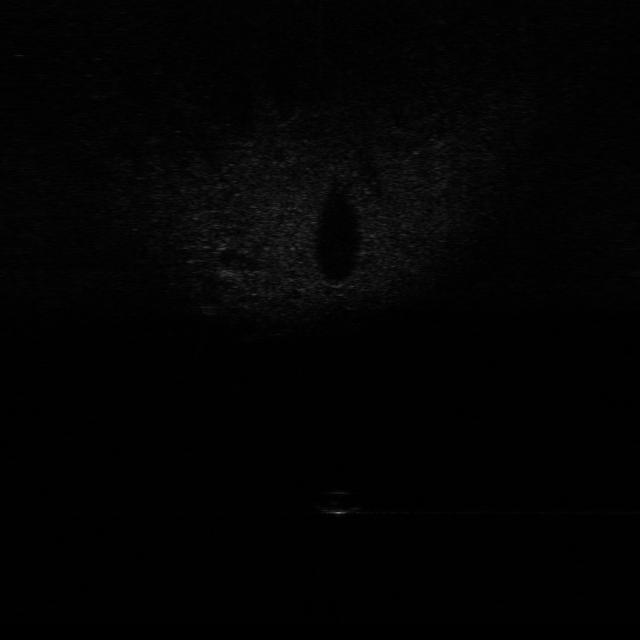ball: (317, 488, 362, 516)
